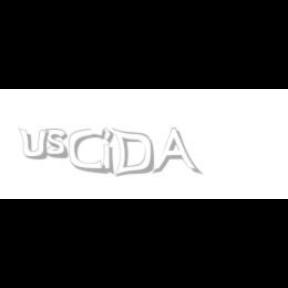A: (151, 128, 199, 176)
C: (70, 128, 106, 174)
D: (112, 128, 154, 178)
i: (102, 128, 118, 176)
s: (45, 128, 73, 160)
u: (18, 128, 52, 160)
